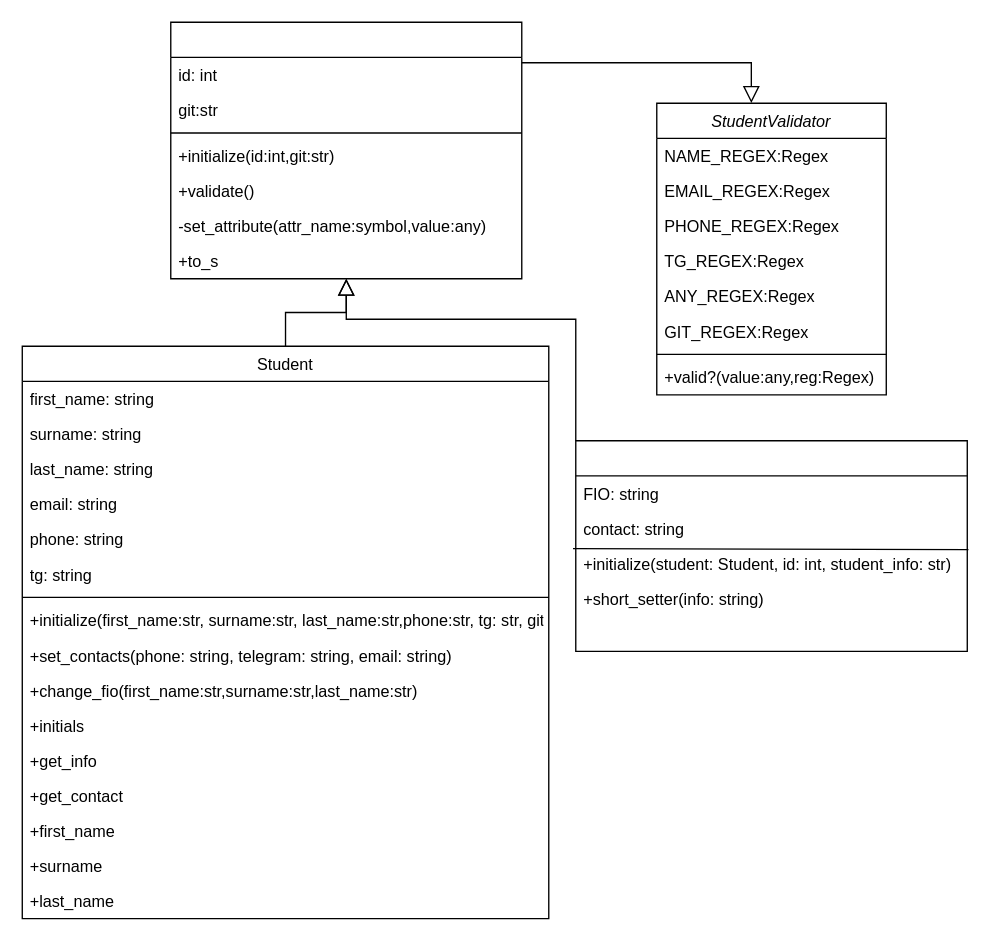
The diagram is 991 pixels wide and 941 high, and some of its shapes have lost their labels. The box of each missing label's shape, as (x1, y1, x2, y2) in pixels:
StudentBase: (169, 21, 522, 279)
StudentShort: (574, 439, 967, 651)
